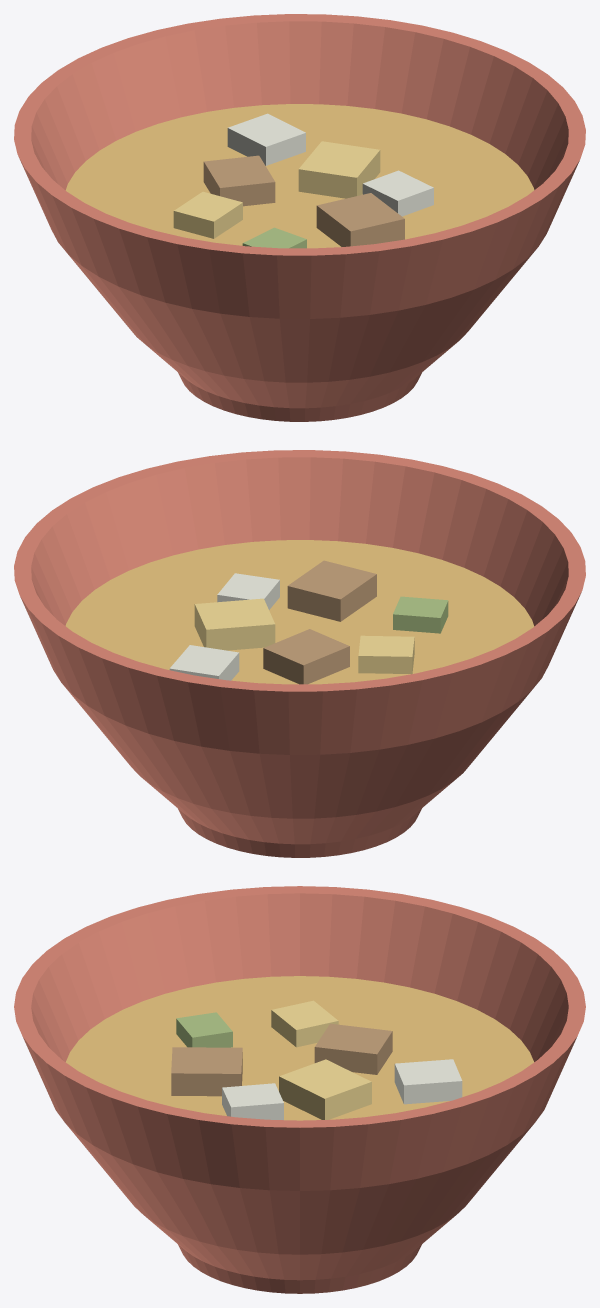
The model's file is sancocho.glb.
3 renders of one model, top to bottom at view 1: azimuth 30°, elevation 25°; view 2: azimuth 150°, elevation 25°; view 3: azimuth 270°, elevation 25°, orthographic.
Parts seen in each view (by area): view 1: p0, p1, p2, p7, p4, p3, p5, p8, p6; view 2: p0, p1, p7, p2, p4, p5, p3, p6, p8; view 3: p0, p1, p2, p7, p4, p3, p5, p8, p6.
Part boxes in pixels (x1,y1,x2,y2): p0: (14, 14, 585, 421); p1: (65, 104, 534, 248); p2: (298, 141, 380, 198); p7: (316, 193, 404, 246); p4: (203, 155, 275, 206); p3: (227, 113, 305, 165); p5: (173, 191, 242, 238); p8: (362, 170, 433, 216); p6: (242, 227, 306, 248); p0: (14, 450, 585, 857); p1: (65, 540, 534, 684); p7: (287, 560, 376, 621); p2: (194, 598, 275, 650); p4: (263, 629, 349, 684); p5: (358, 635, 414, 674); p3: (169, 645, 239, 680); p6: (393, 596, 448, 633); p8: (217, 573, 279, 609); p0: (14, 886, 585, 1293); p1: (66, 976, 533, 1120); p2: (279, 1059, 371, 1119); p7: (171, 1047, 242, 1096); p4: (314, 1023, 392, 1074); p3: (394, 1059, 462, 1104); p5: (271, 1000, 338, 1047); p8: (222, 1083, 283, 1119); p6: (176, 1012, 232, 1047).
Size of the model in its own units: 0.18 by 0.082 by 0.18.
